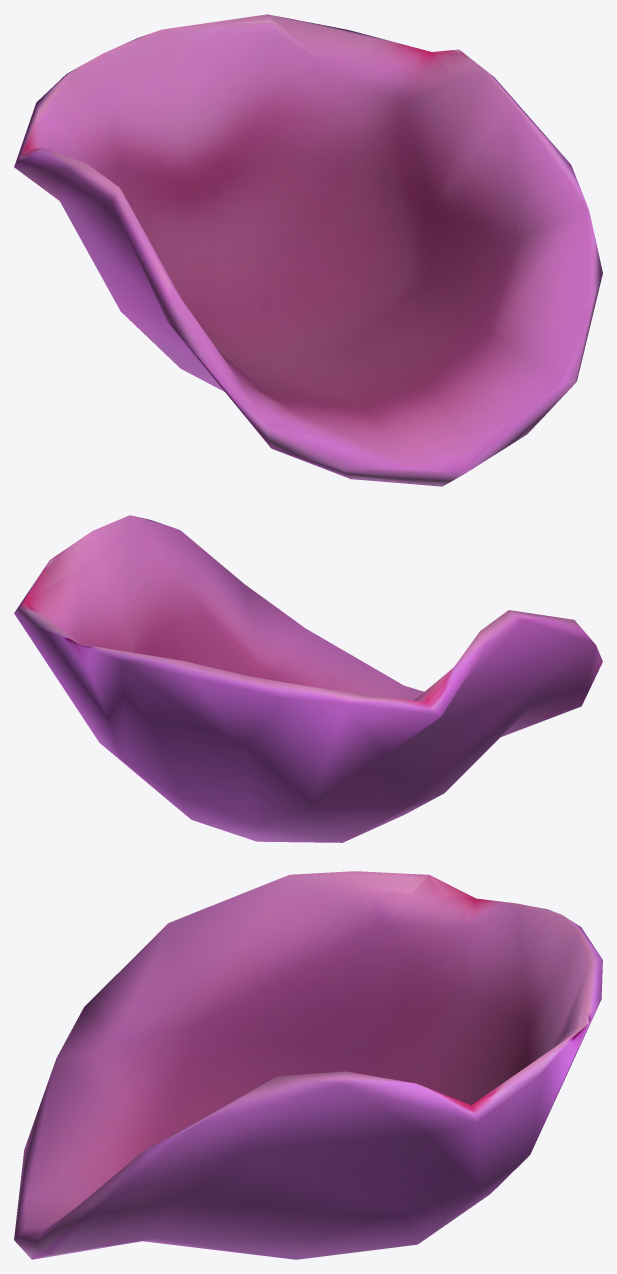
The model's file is petal-scatter.glb.
3 renders of one model, top to bottom at view 1: azimuth 30°, elevation 25°; view 2: azimuth 150°, elevation 25°; view 3: azimuth 270°, elevation 25°, orthographic. The views are drawn at different scales.
Bounding box in the file's own units: 1.29 × 0.7518 × 1.46.
1 material, 1 textured.
